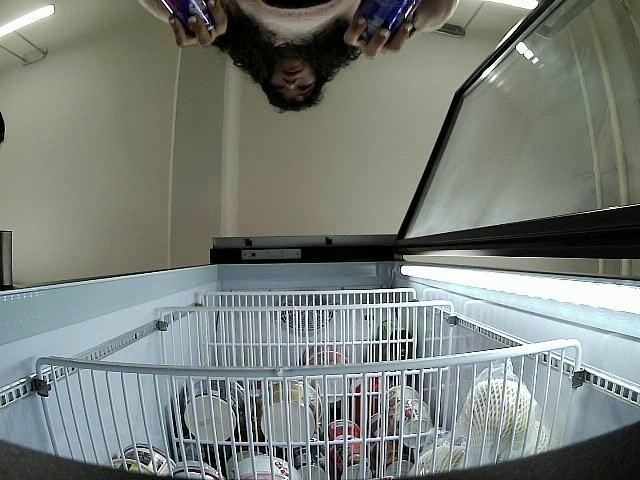14_welchsGrape: (351, 0, 420, 48), (161, 0, 216, 35)
